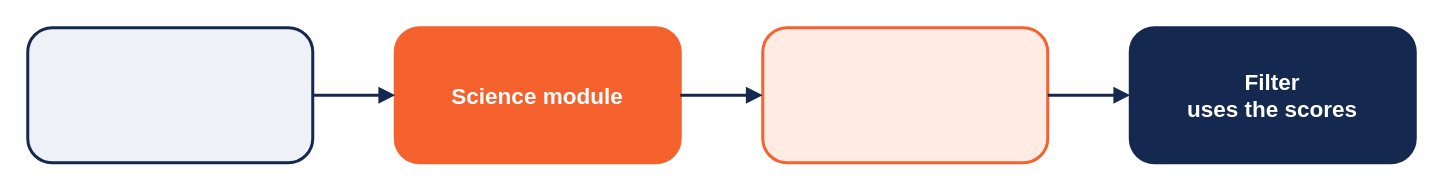
Image size: 1442x189. Some labels were removed from this diagram. Here are the shapes that lost their labels. From the top down, the centre of each, then its label:
At point (170, 95): "Alert columns (light curve, position…)".
At point (904, 95): "+ 1 new column score / class".
